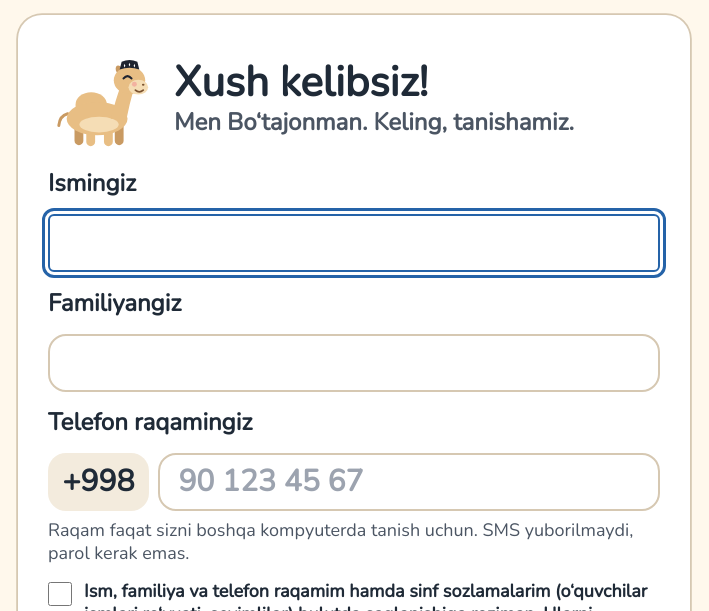
ro‘yxatdan o‘tish (bulut) › raqam boshqa ism bilan band bo‘lsa — xabar chiqadi, kirmaydi
This screenshot has width=709, height=611.
In the field labelled "Ismingiz": coordinates (354, 243) [48, 214, 660, 272], type "dilnoza"
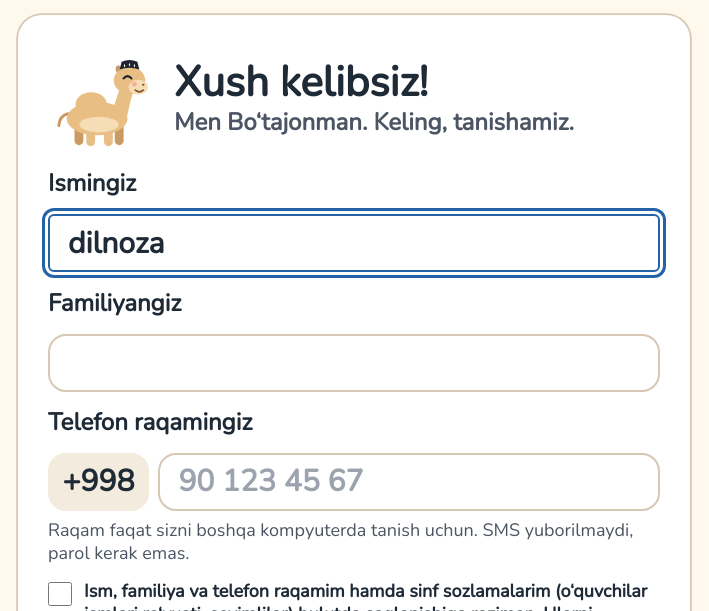
In the field labelled "Familiyangiz": coordinates (354, 363) [48, 334, 660, 392], type "karimova"
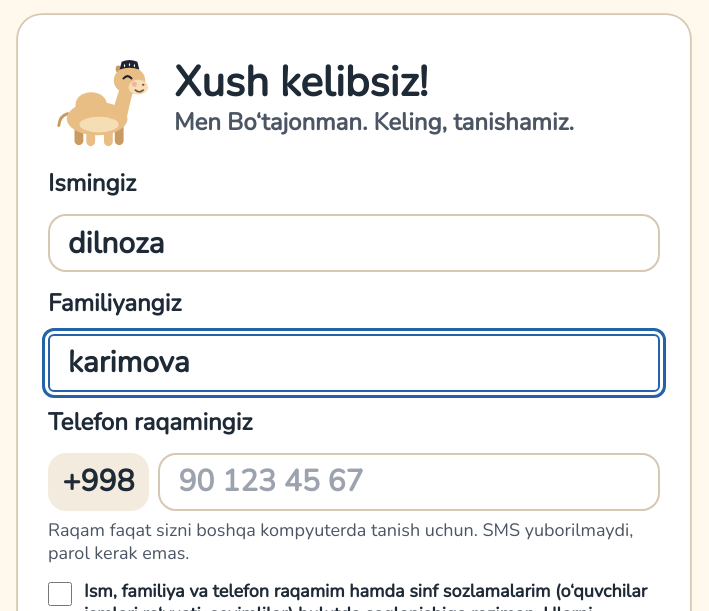
In the field labelled "Telefon raqamingiz": coordinates (409, 482) [158, 453, 660, 511], type "901234567"
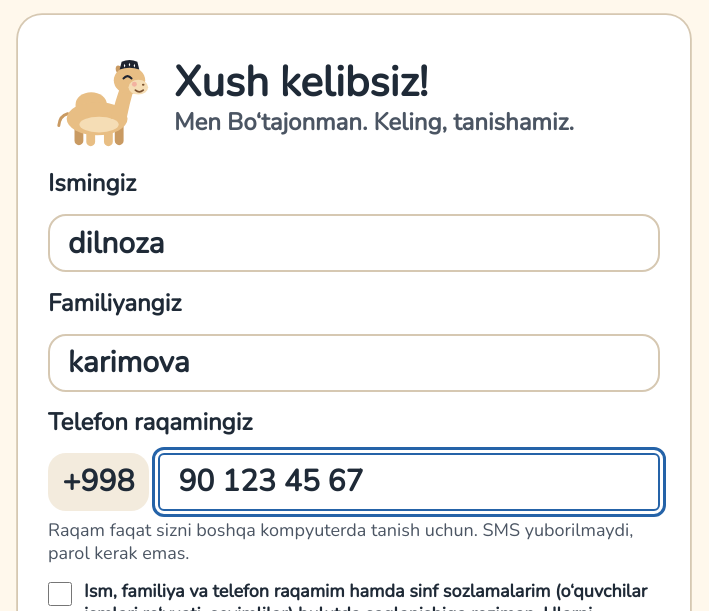
Click the checkbox: coordinates (60, 594) [48, 582, 72, 606]
(page scrolled)
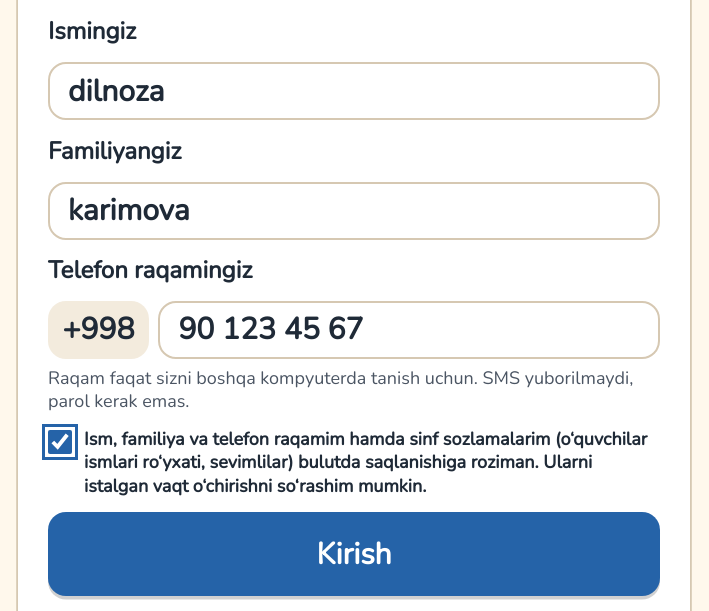
Click the button "Kirish": coordinates (354, 554) [48, 512, 660, 596]
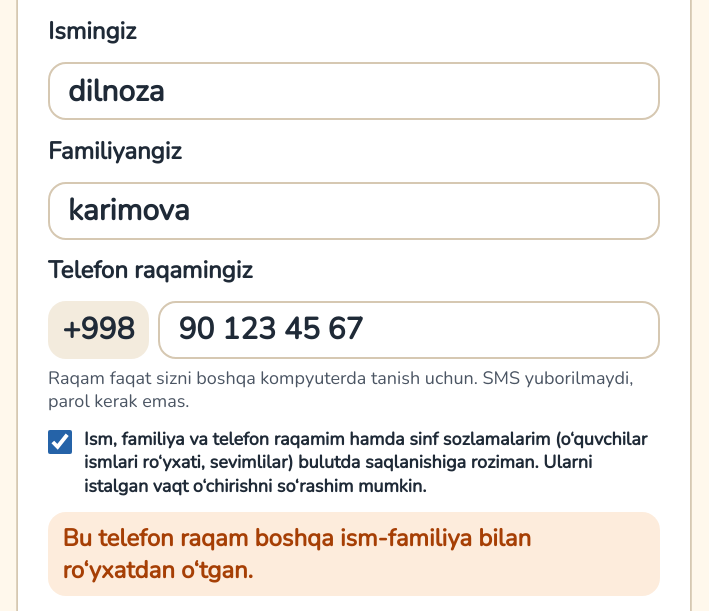
expect the message shows "boshqa ism-familiya": met, box [62, 522, 531, 586]
